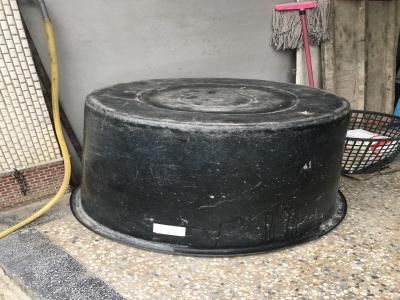bucket: (68, 75, 354, 259)
